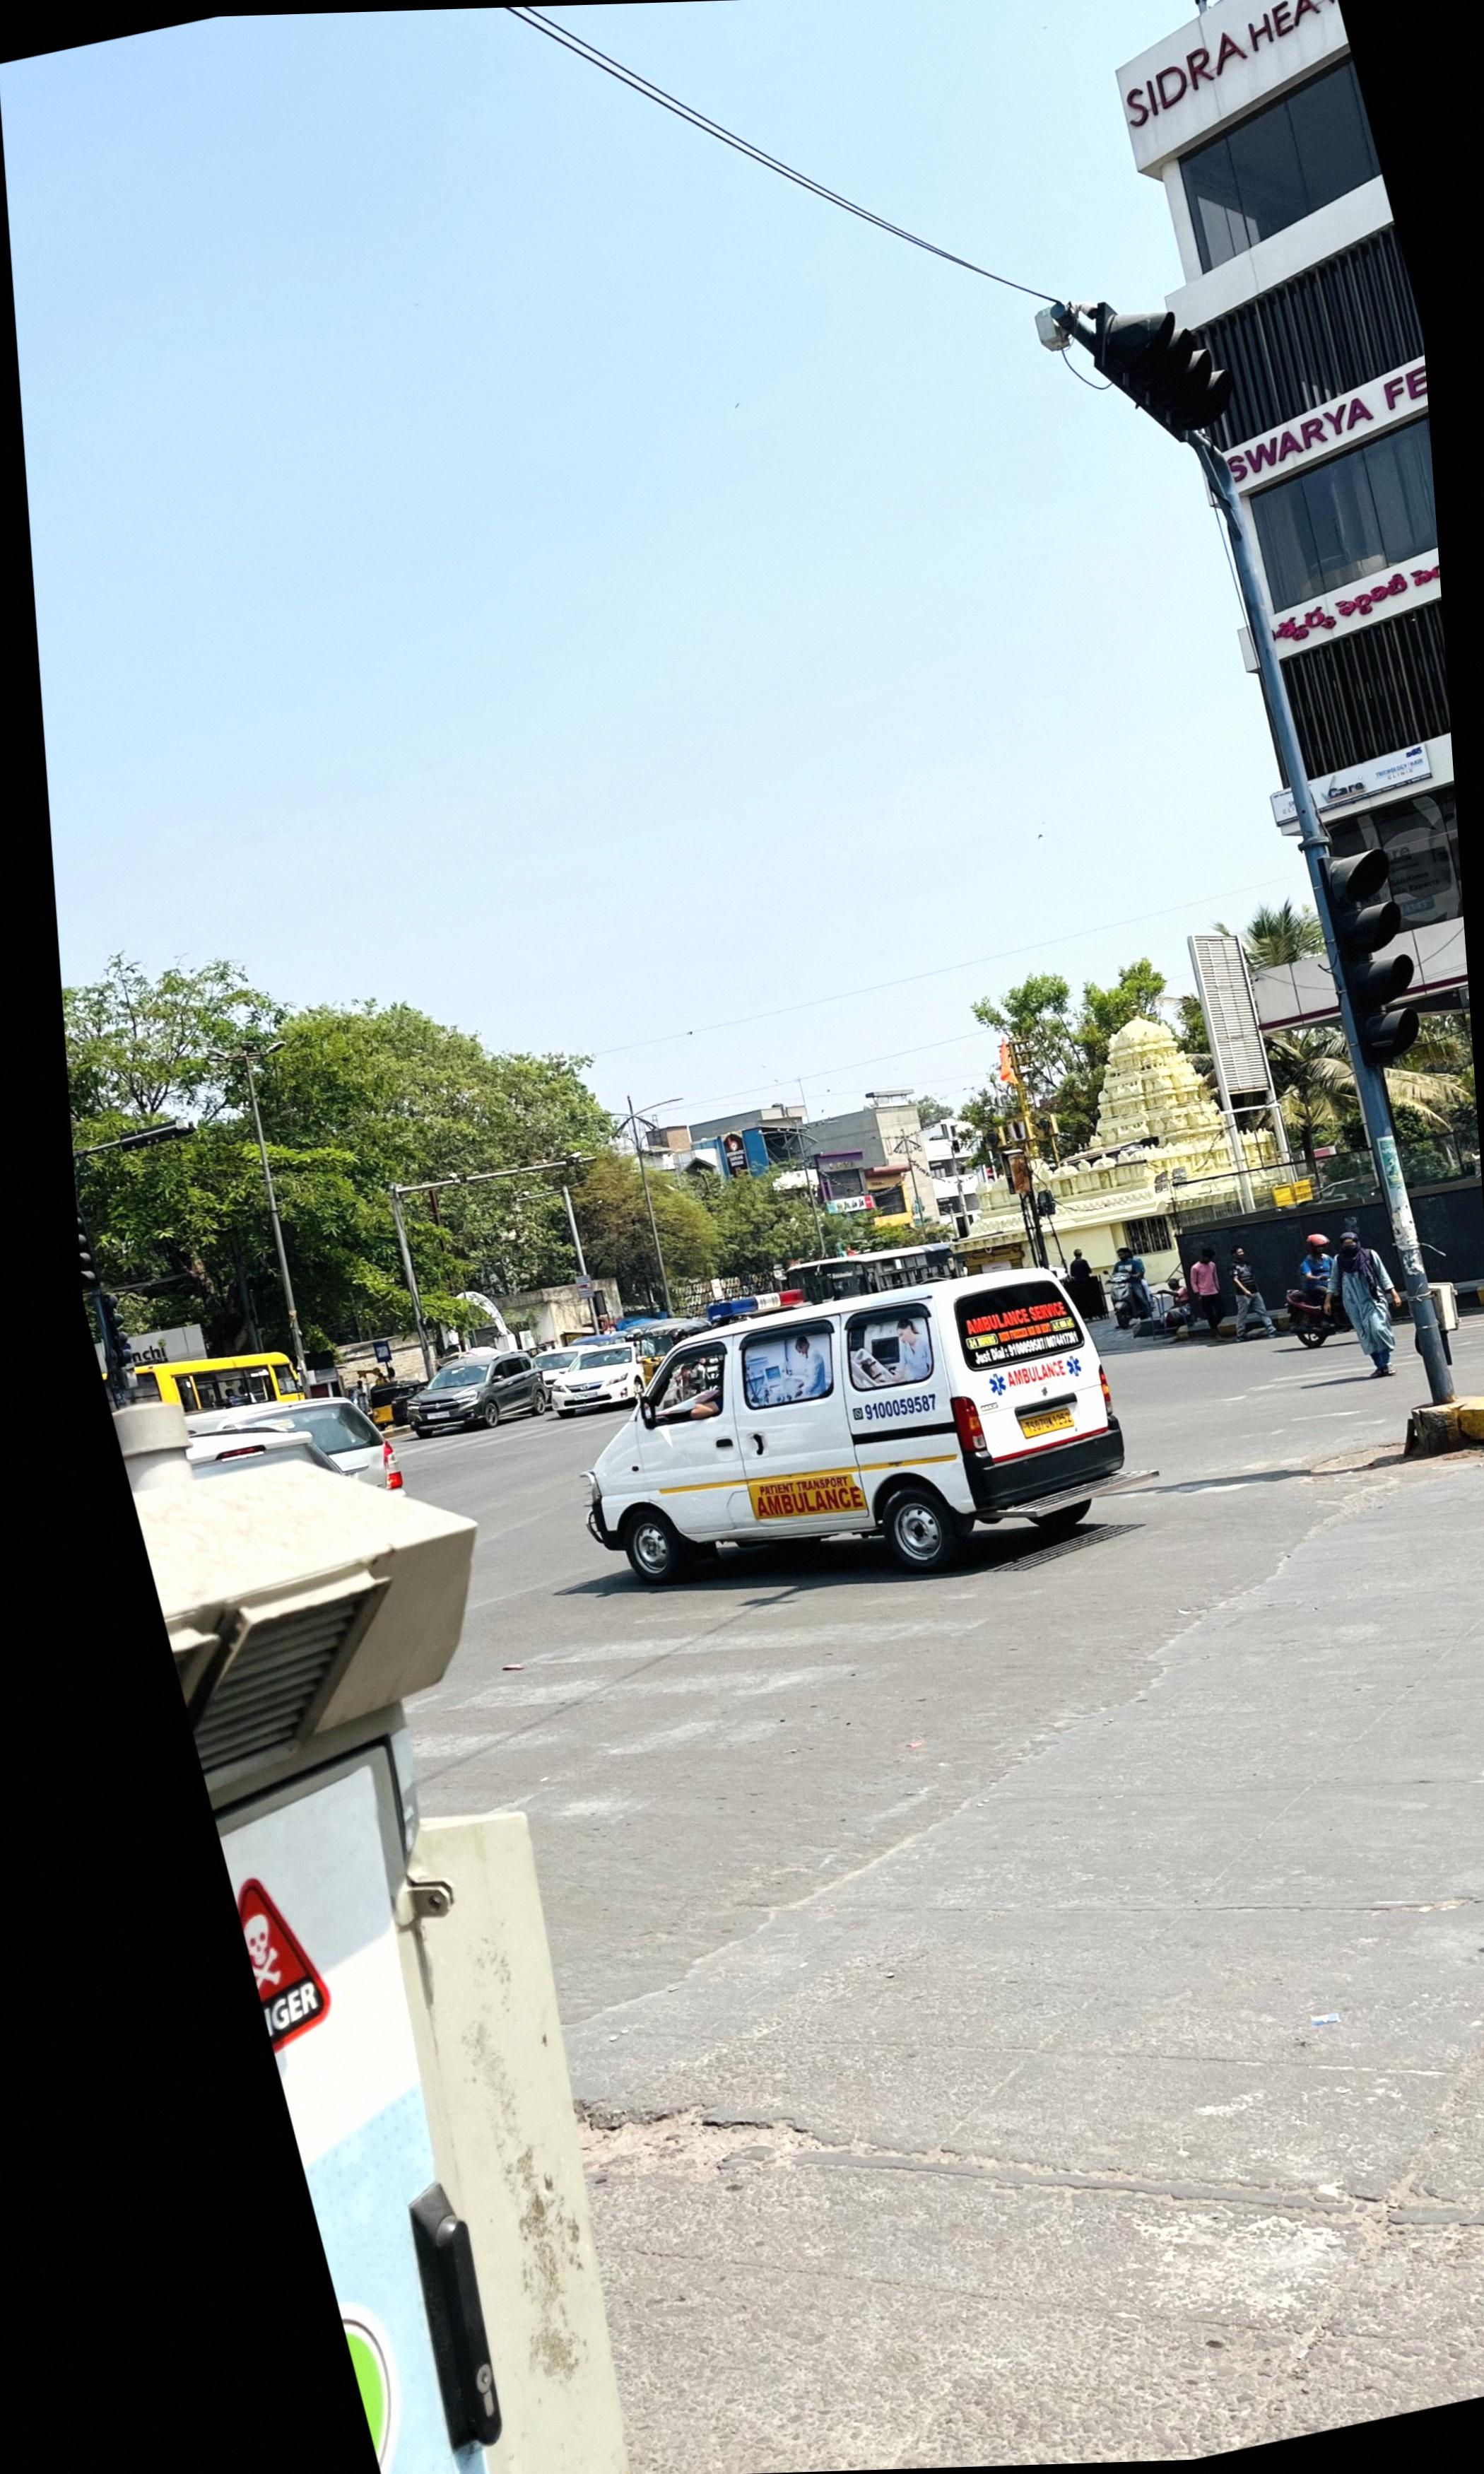ambulance: (585, 1269, 1125, 1590)
